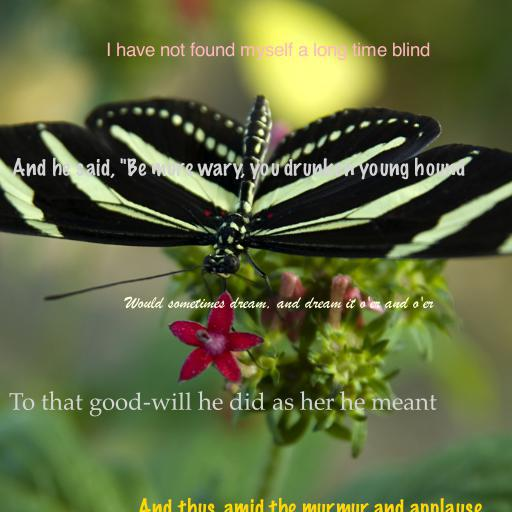Brush Script MT: (125, 296, 433, 310)
Impact: (106, 42, 430, 61)
Marker Felt: (12, 157, 466, 180), (138, 497, 482, 512)
Palatino: (9, 391, 437, 417)
